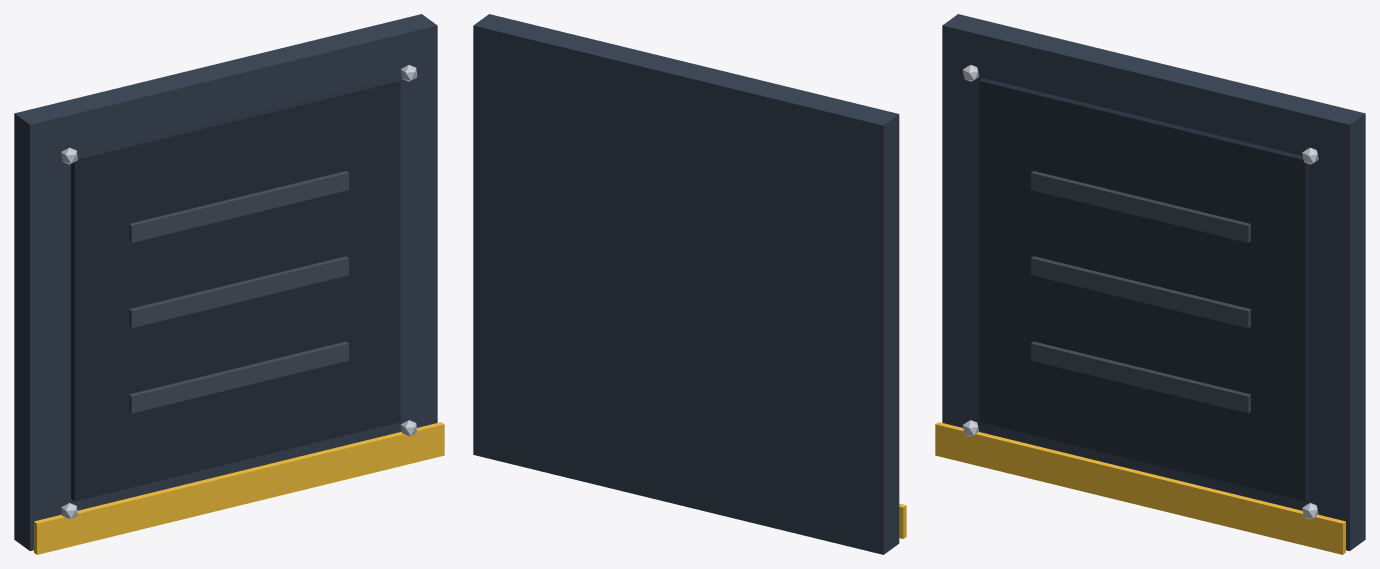
The model's file is bg_wall_panel.glb.
The picture shows the model from 3 angles, left to right: view 1: azimuth 30°, elevation 25°; view 2: azimuth 150°, elevation 25°; view 3: azimuth 330°, elevation 25°; orthographic projection.
Visible parts, largest first — view 1: bg_wall_panel; view 2: bg_wall_panel; view 3: bg_wall_panel.
Part boxes in pixels (<box>): bg_wall_panel: <box>14,14,444,554</box>; bg_wall_panel: <box>473,14,906,554</box>; bg_wall_panel: <box>935,14,1365,554</box>.
Bounding box in the file's own units: 3 × 3 × 0.321.
